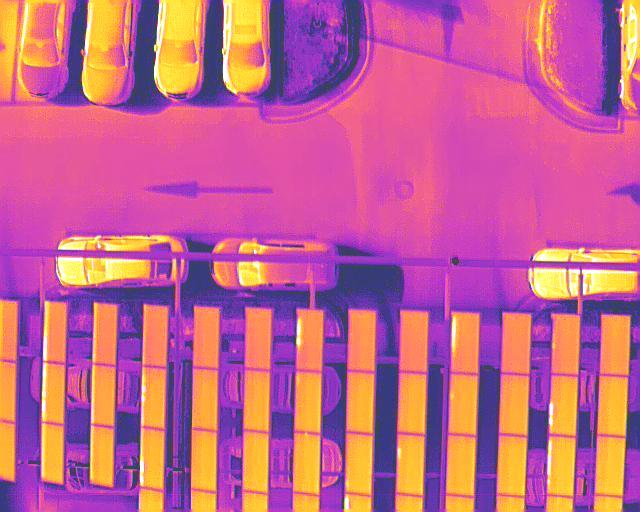Cell: (398, 432, 426, 495)
No-Anomaly: (400, 310, 430, 372), (600, 315, 630, 376), (346, 371, 375, 434), (502, 313, 532, 373), (500, 374, 529, 436), (498, 435, 527, 497), (348, 310, 376, 372), (398, 372, 426, 434), (449, 373, 477, 435), (552, 315, 581, 374), (599, 377, 628, 436), (449, 435, 477, 496), (346, 432, 373, 495), (296, 369, 322, 434), (246, 307, 273, 369), (596, 438, 624, 497), (193, 308, 220, 369), (244, 369, 270, 432), (295, 432, 321, 495), (92, 361, 116, 428), (244, 430, 269, 494), (192, 369, 218, 430), (191, 429, 217, 490), (93, 303, 118, 366), (145, 304, 169, 367), (42, 423, 64, 483), (92, 424, 113, 486)
Unclassified: (549, 375, 579, 435), (547, 437, 575, 497), (297, 310, 324, 372), (452, 314, 480, 373), (142, 368, 167, 428), (141, 427, 165, 488), (42, 363, 65, 426), (43, 303, 66, 362)
